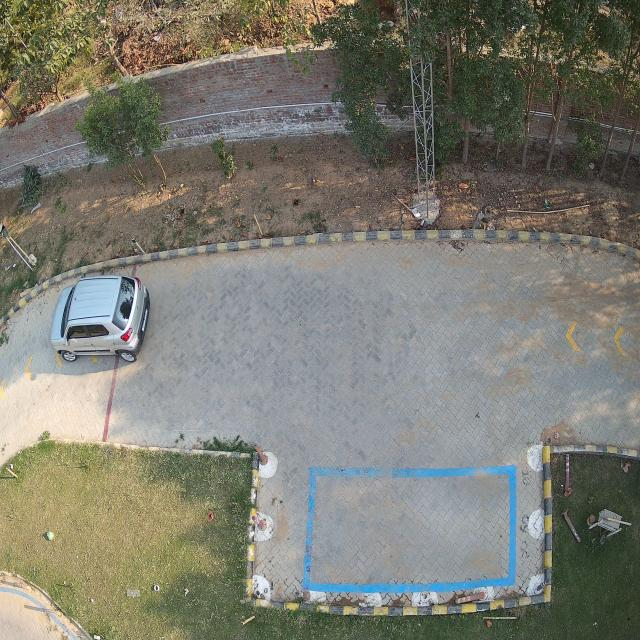car: (50, 275, 150, 363)
